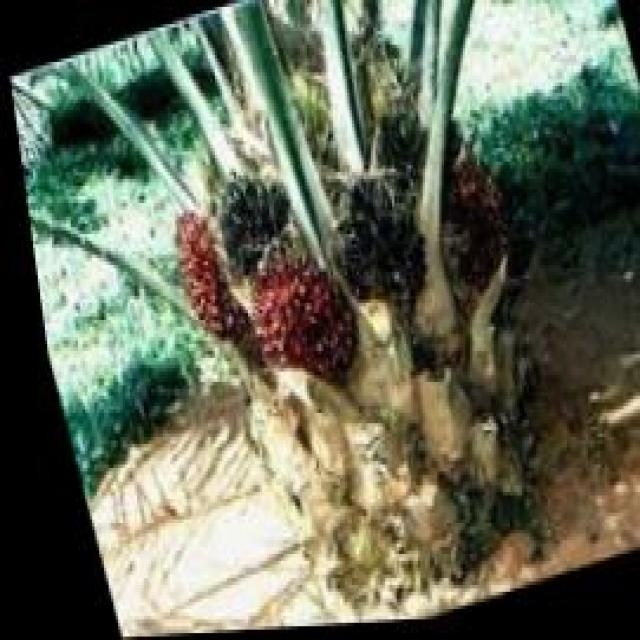Ripefruit: (228, 239, 360, 404), (156, 198, 234, 342)
